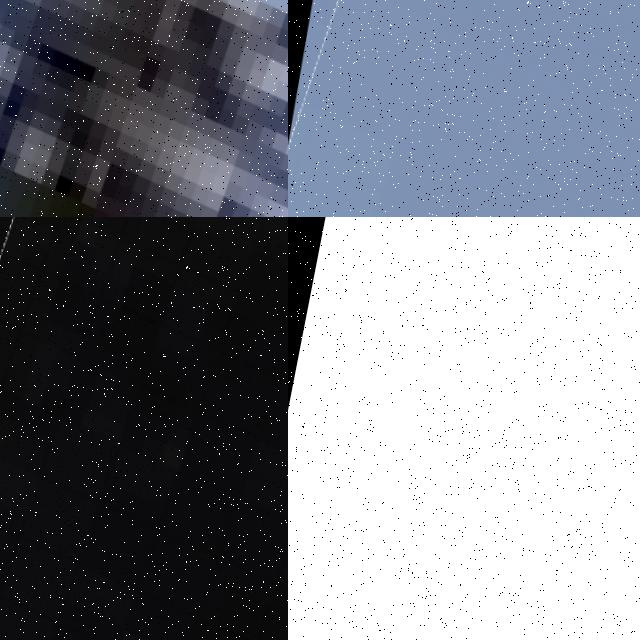0: (288, 0, 640, 217), (0, 0, 288, 217)
drone: (0, 217, 288, 640)
